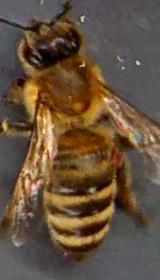varroa_mite: (104, 142, 128, 171)
